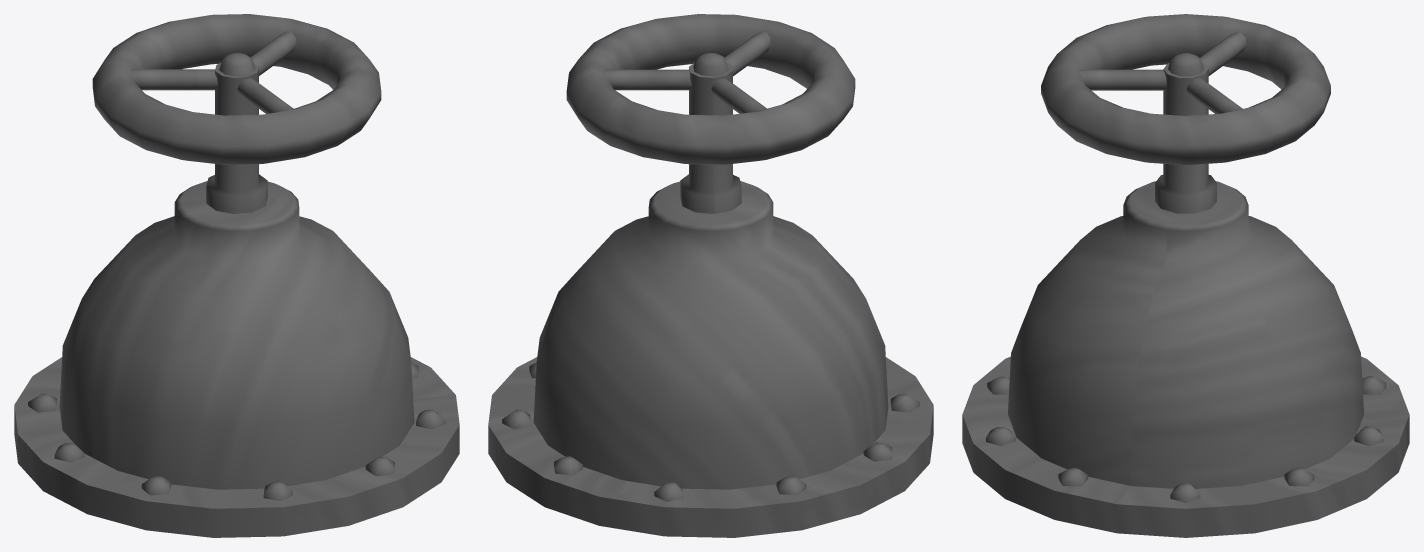
Rendered from end-pipe.glb.
The picture shows the model from 3 angles, left to right: view 1: azimuth 30°, elevation 25°; view 2: azimuth 150°, elevation 25°; view 3: azimuth 270°, elevation 25°; orthographic projection.
Visible parts, largest first — view 1: End_Pipe; view 2: End_Pipe; view 3: End_Pipe.
Boxes of the visible parts, x1,y1,x2,y2 form: End_Pipe: (14,14,459,537); End_Pipe: (488,14,933,537); End_Pipe: (962,14,1409,537).
Bounding box in the file's own units: 0.6276 × 0.6023 × 0.6276.
1 material, 1 textured.
